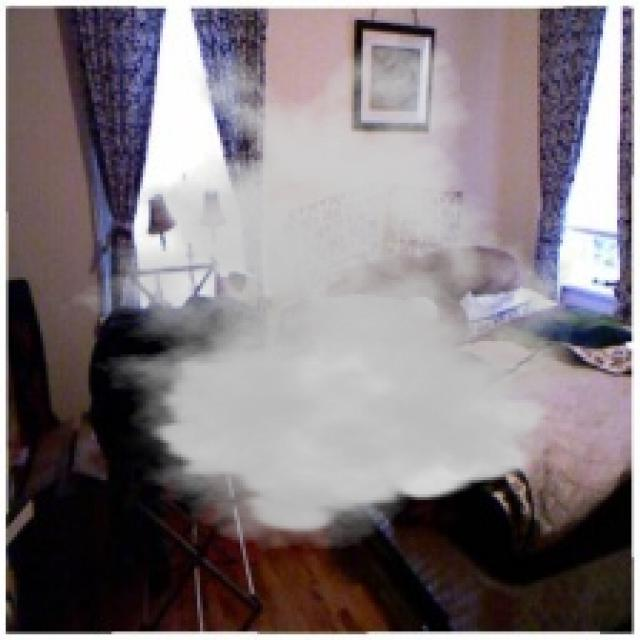smoke: (46, 31, 603, 552)
